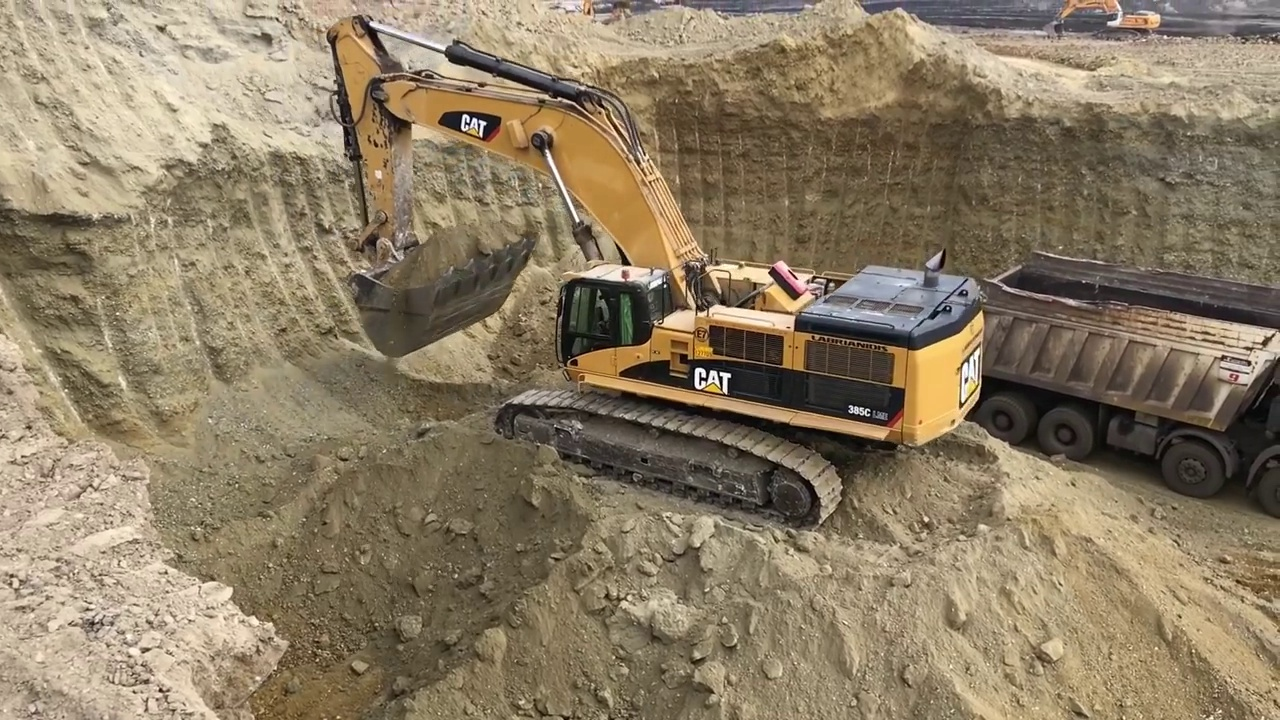excavator: (321, 15, 983, 533), (1047, 1, 1160, 42)
truck: (973, 249, 1280, 513)
